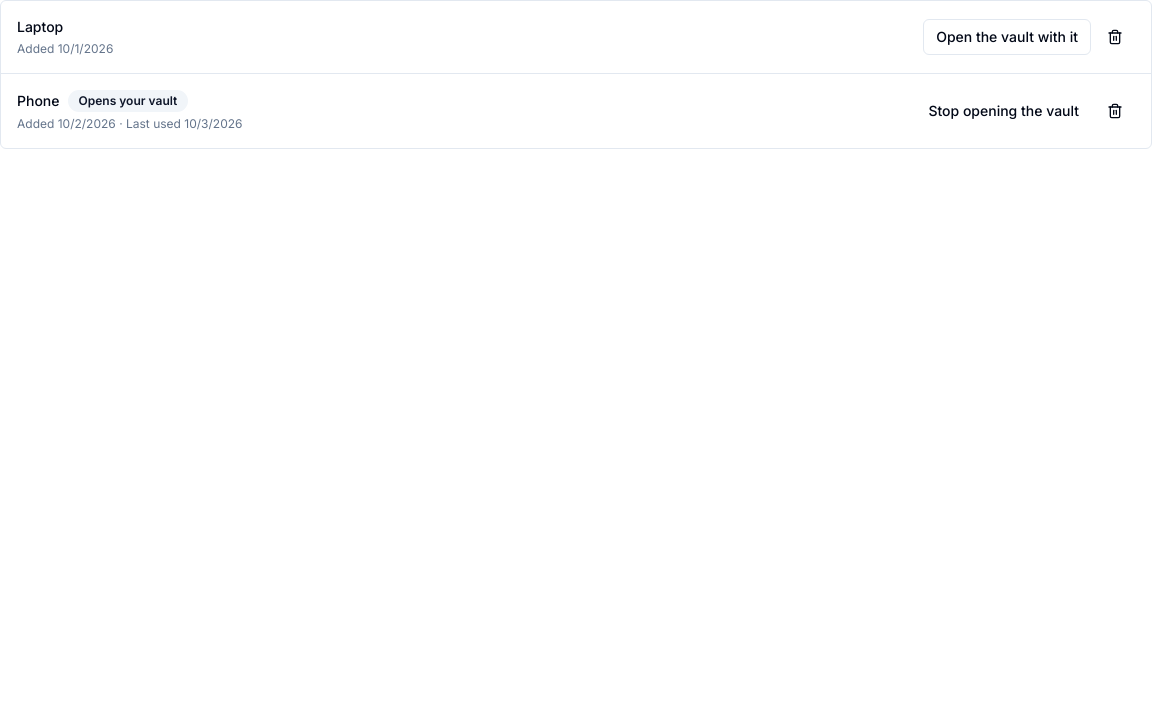
Test case: PasskeyList › stops at a wrong password without asking for the passkey
Click the button "Open the vault with it" at point(1007, 37), box left=923, top=19, right=1091, bottom=55
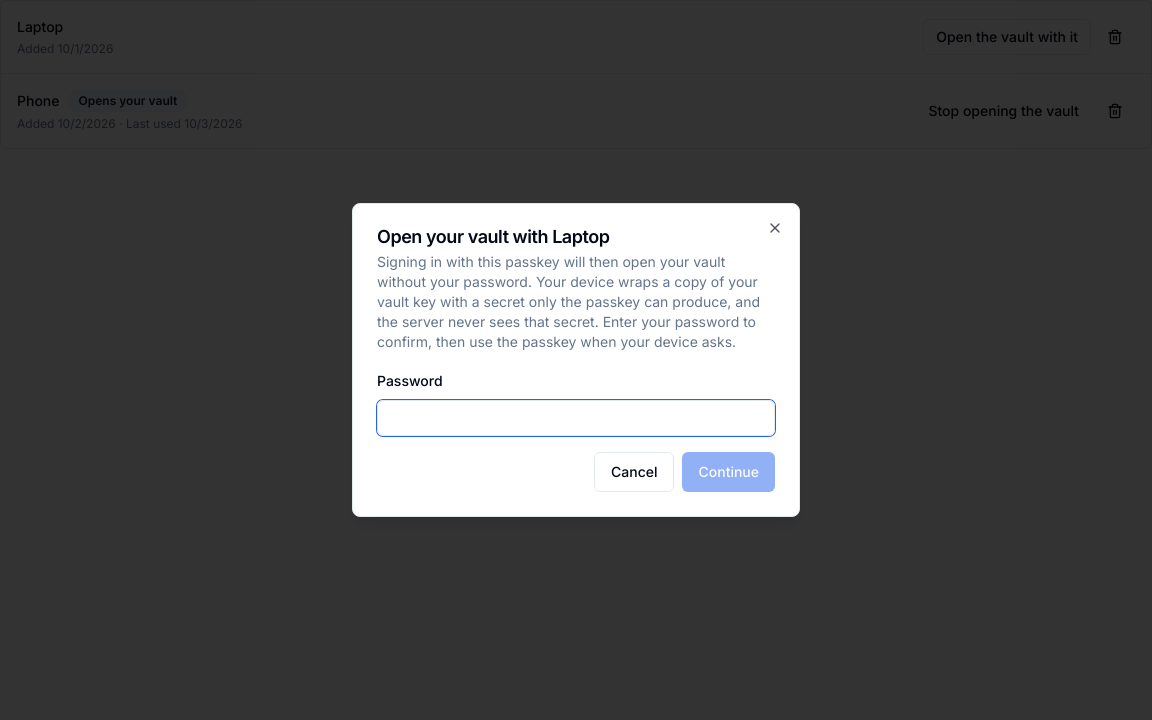
Type "hunter22-but-longer" into the password field labelled "Password" at point(576, 418), box left=377, top=400, right=775, bottom=436
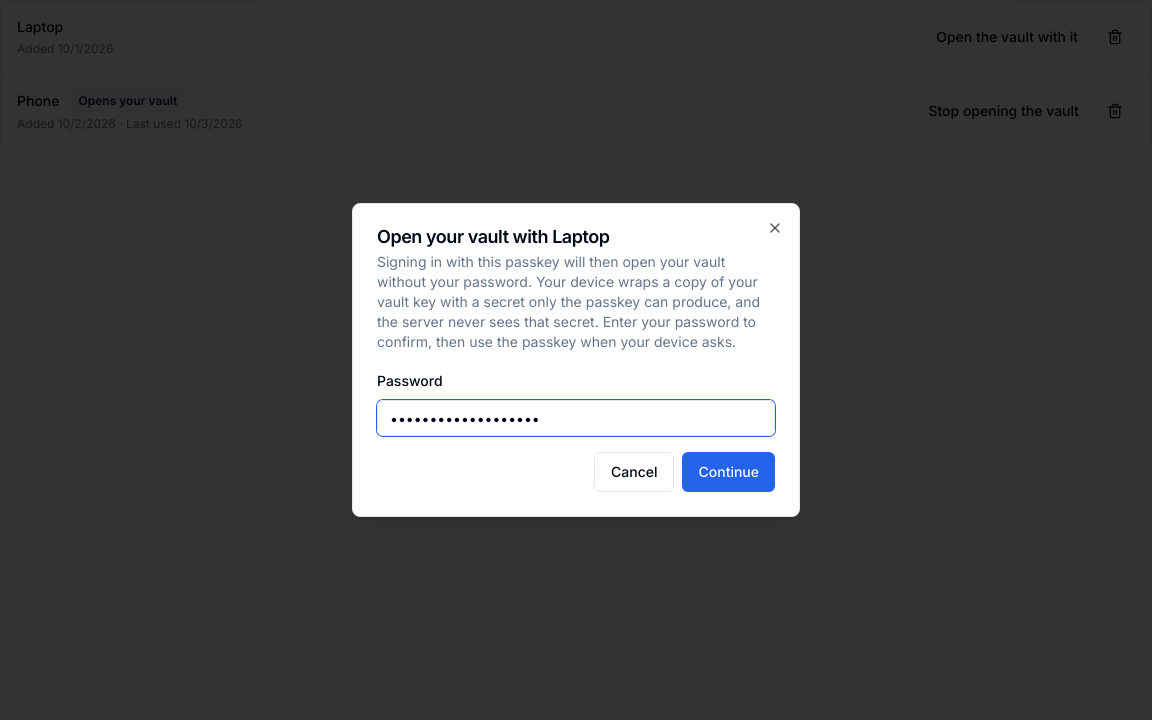
Click the button "Continue" at point(729, 472), box left=682, top=452, right=775, bottom=492
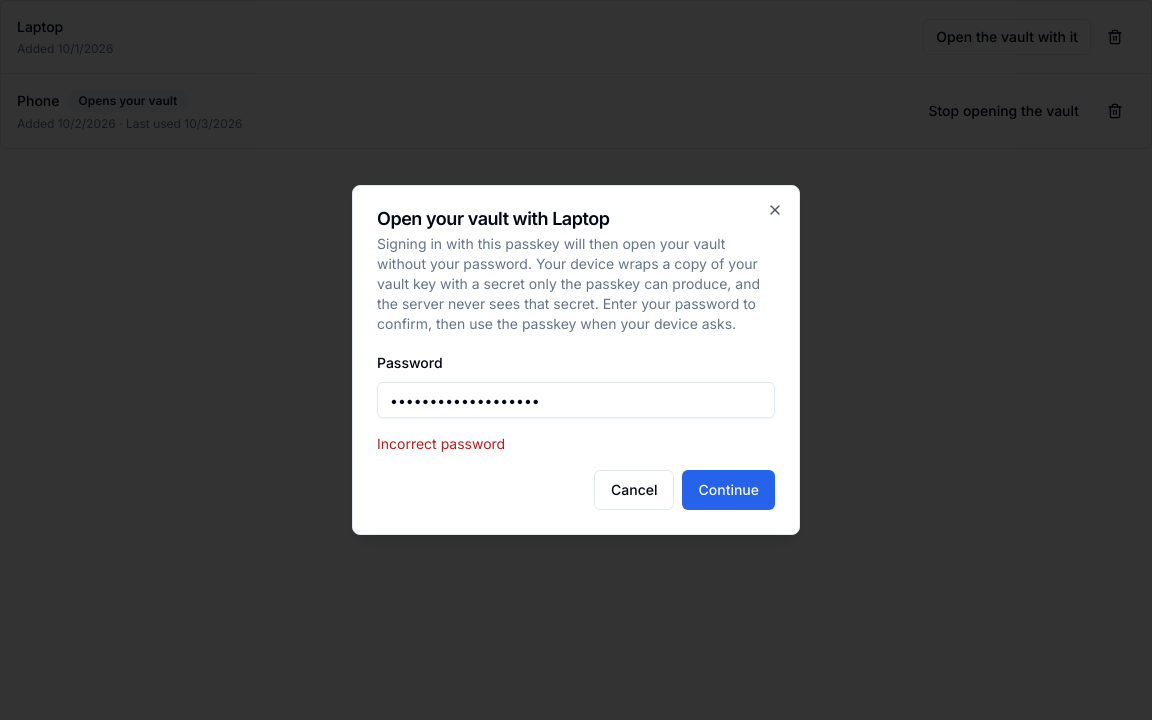
Expected: the message reads "Incorrect password", left=377, top=435, right=505, bottom=452
